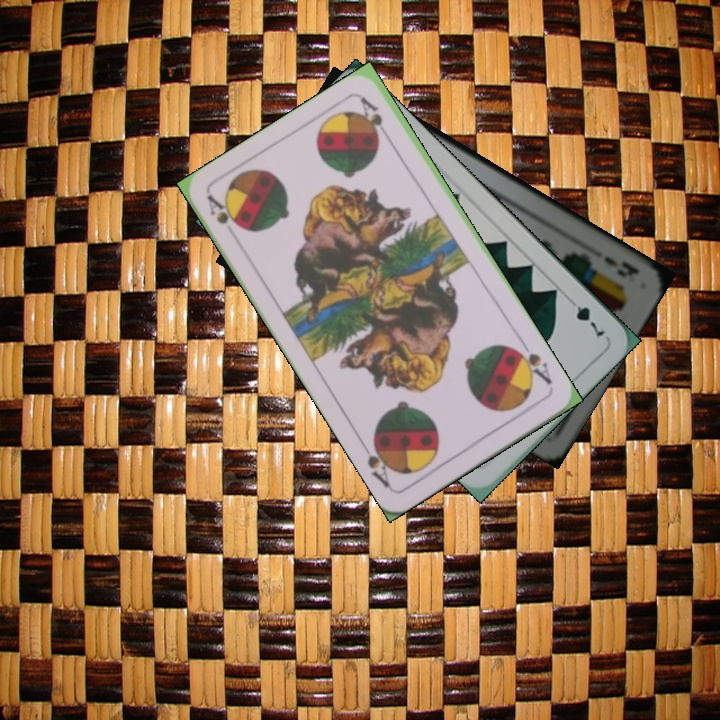EK: (599, 252, 642, 280)
G7: (563, 292, 608, 339)
SA: (509, 337, 555, 387), (203, 191, 246, 234)
